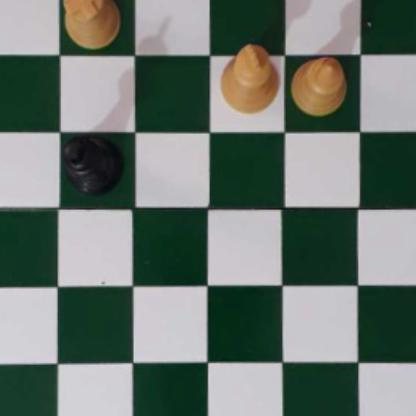black-king: (64, 130, 121, 192)
white-bishop: (290, 53, 346, 115)
white-king: (214, 45, 281, 111)
white-rook: (61, 0, 119, 43)
